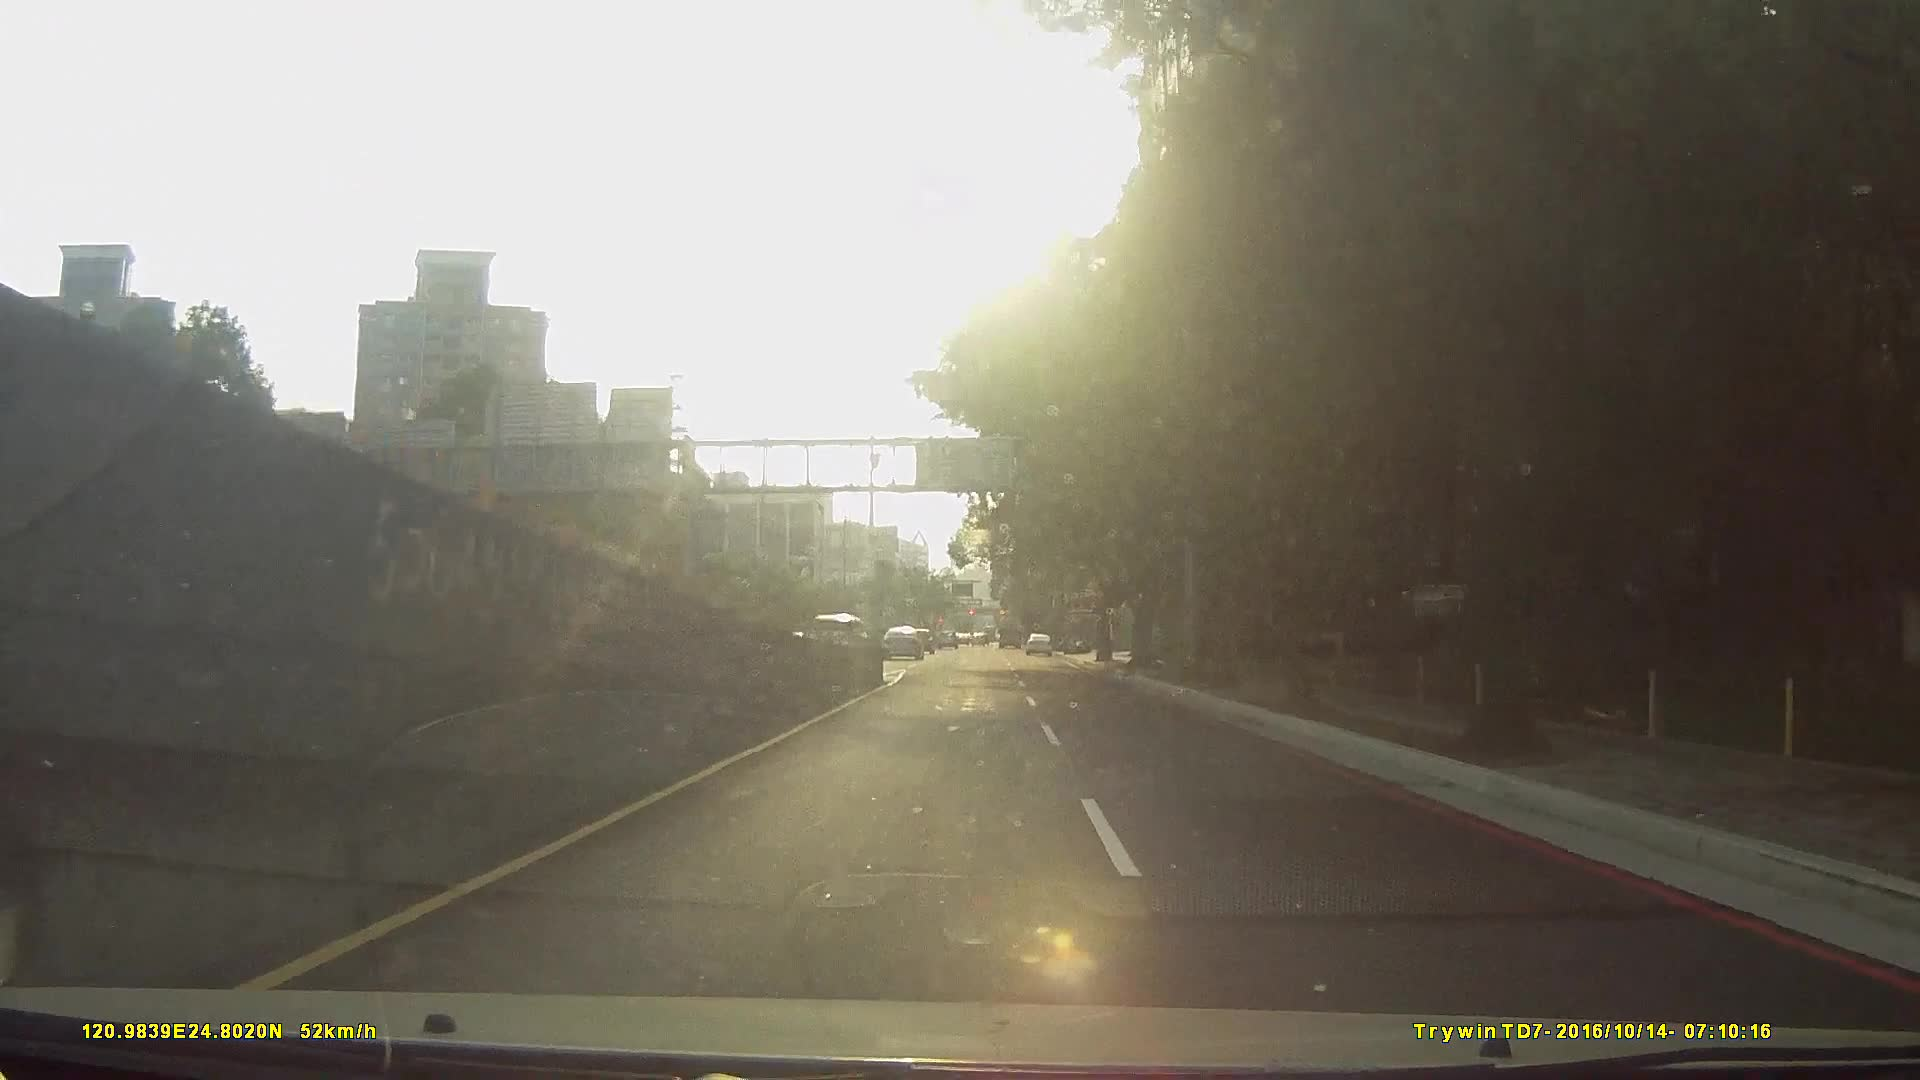vehicle: (878, 625, 922, 661), (997, 613, 1025, 649), (1023, 633, 1054, 657)
